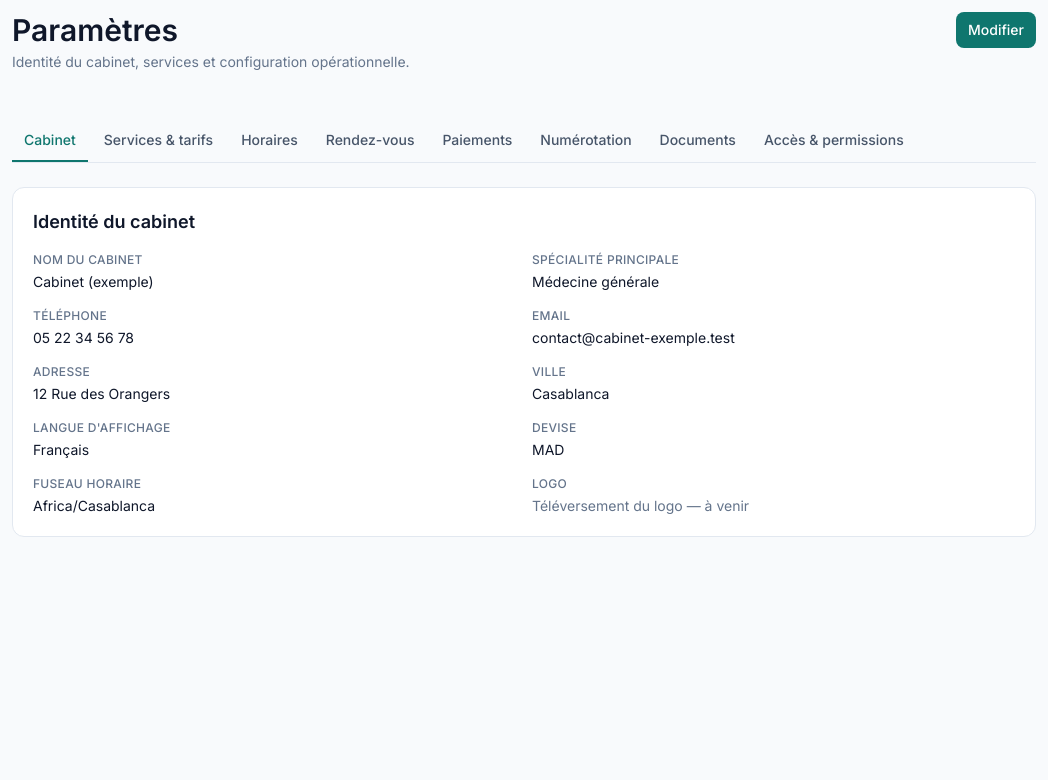
Test: CabinetSettingsPage › Modifier reveals the bounded edit form pre-filled with current values
Click the button "Modifier" at (996,30), box [956,12,1036,48]
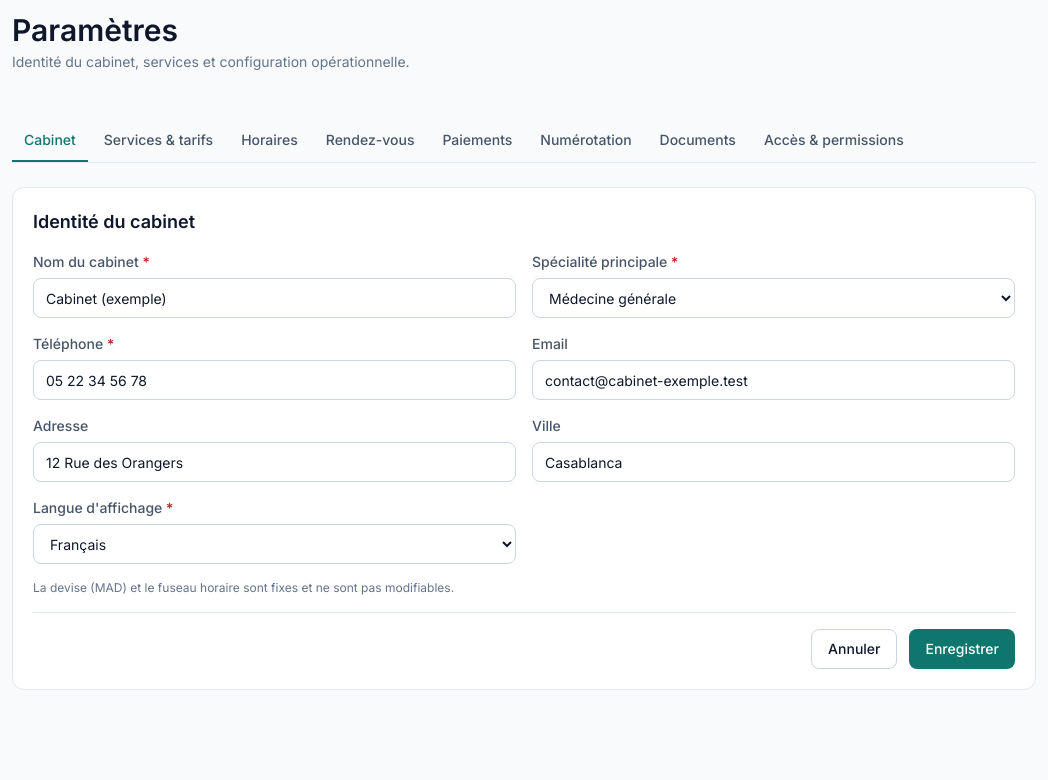
Expected: the field labelled "Nom du cabinet *" holds "Cabinet (exemple)", [33,278,516,318]
Expected: the field labelled "Téléphone *" holds "05 22 34 56 78", [33,360,516,400]
